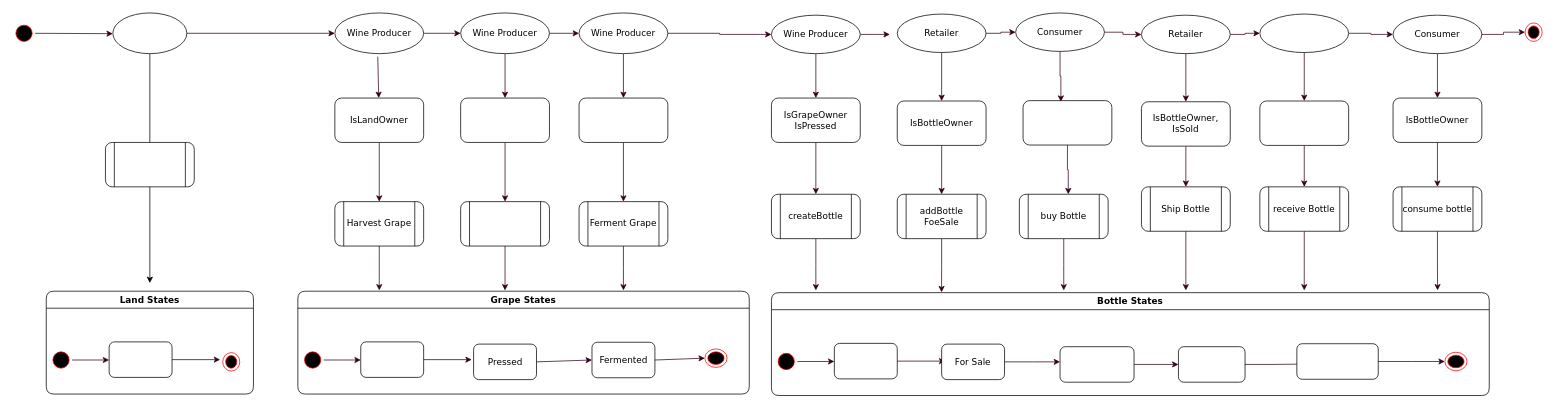
Some shapes in this 1555 by 408 pixel diagram are drawn without their labels. Here are the shapes that lost their labels. From the top down, the centre of each, then its label:
At point 149,33: "land Owner".
At point 1304,33: "Bottle Buyer".
At point 504,119: "IsGrapeOwner IsHarvested".
At point 623,119: "IsHarvested IsPressed".
At point 1067,122: "IsNotBottleOwner, IsPaidEnough, isForSale".
At point 1304,122: "IsBottleBuyer, IsSHIPPED".
At point 149,164: "registerLand".
At point 504,223: "Press Grape".
At point 140,359: "Registered".
At point 392,359: "Harvested".
At point 865,361: "Owned".
At point 1096,364: "Sold".
At point 1211,364: "Transported".
At point 1337,361: "Consumed".
